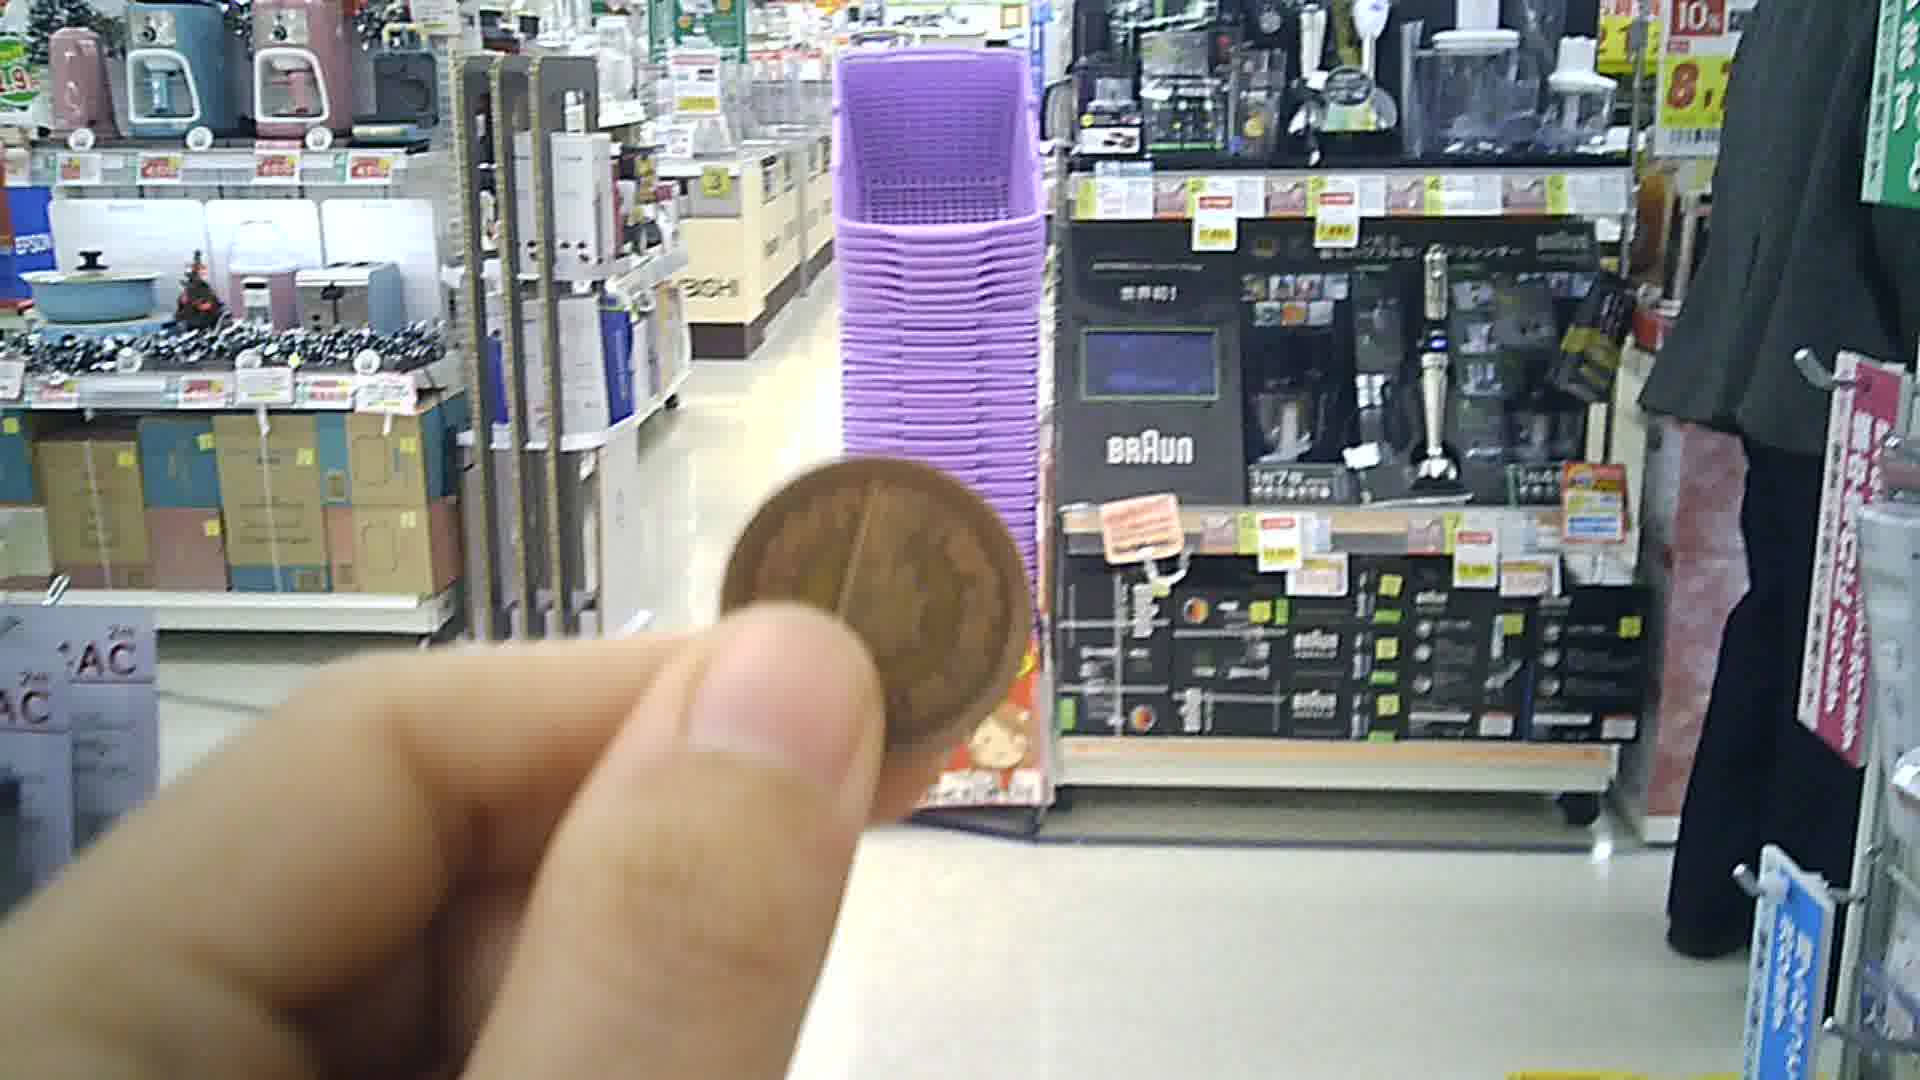10 Yen: (713, 455, 1054, 758)
